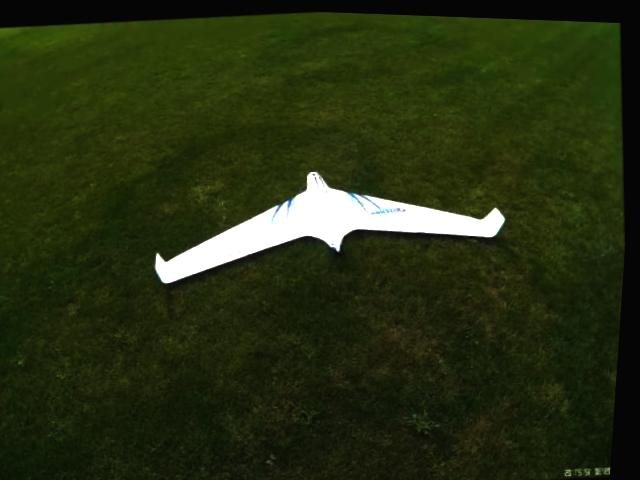flying wing: (147, 137, 518, 306)
